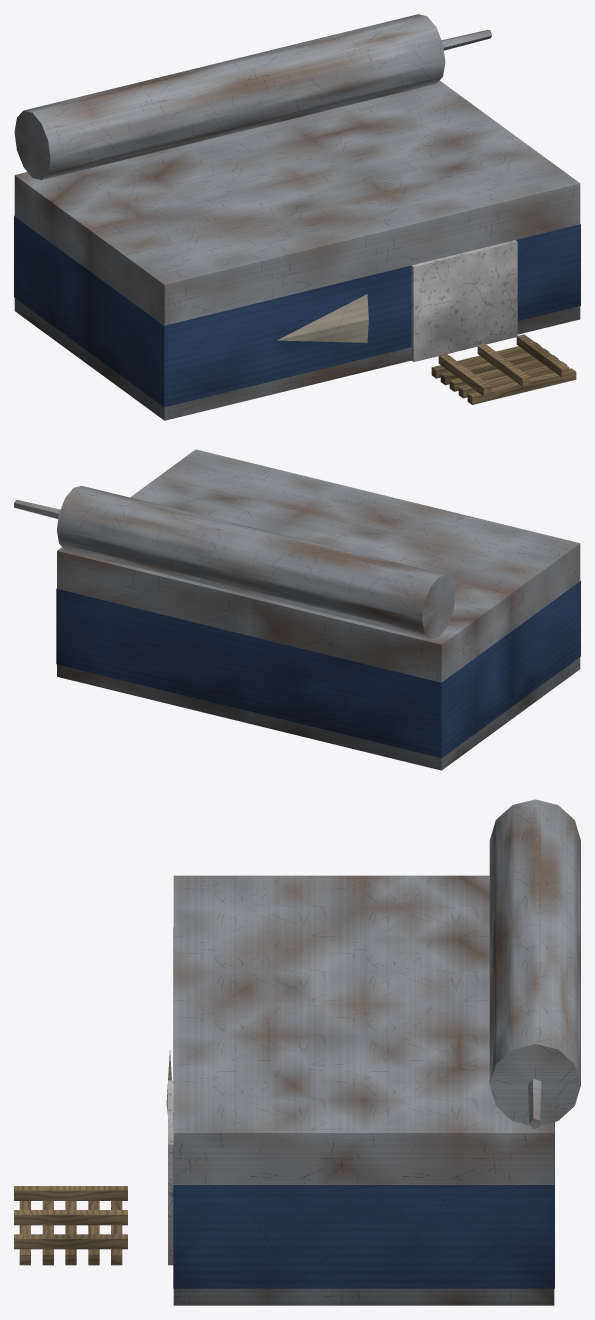
File: warehouse.glb
The picture shows the model from 3 angles, top to bottom: view 1: azimuth 30°, elevation 25°; view 2: azimuth 150°, elevation 25°; view 3: azimuth 270°, elevation 25°; orthographic projection. The views are drawn at different scales.
Visible parts, largest first — view 1: warehouse; view 2: warehouse; view 3: warehouse.
Boxes of the visible parts, bbox=[...] form: warehouse: bbox=[14, 14, 580, 420]; warehouse: bbox=[14, 449, 580, 770]; warehouse: bbox=[14, 799, 580, 1305].
Bounding box in the file's own units: 18.02 × 7.4 × 14.9.
5 materials, 5 textured.
